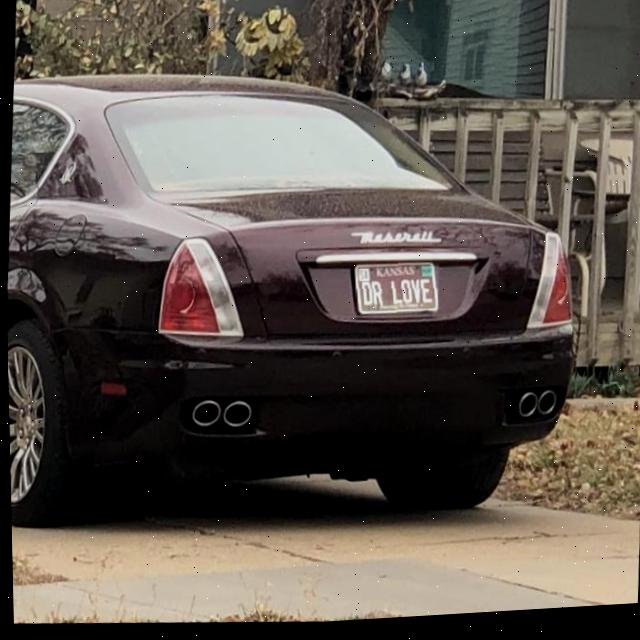LicensePlate: (355, 269, 436, 318)
